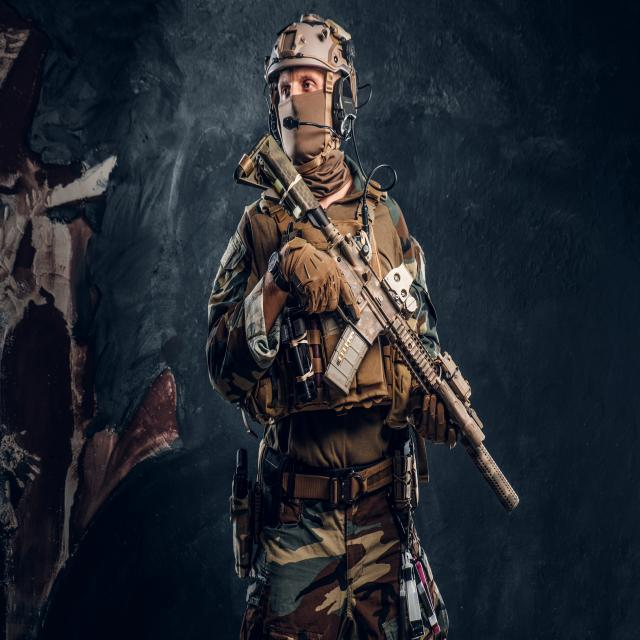rifle: (226, 130, 530, 528)
